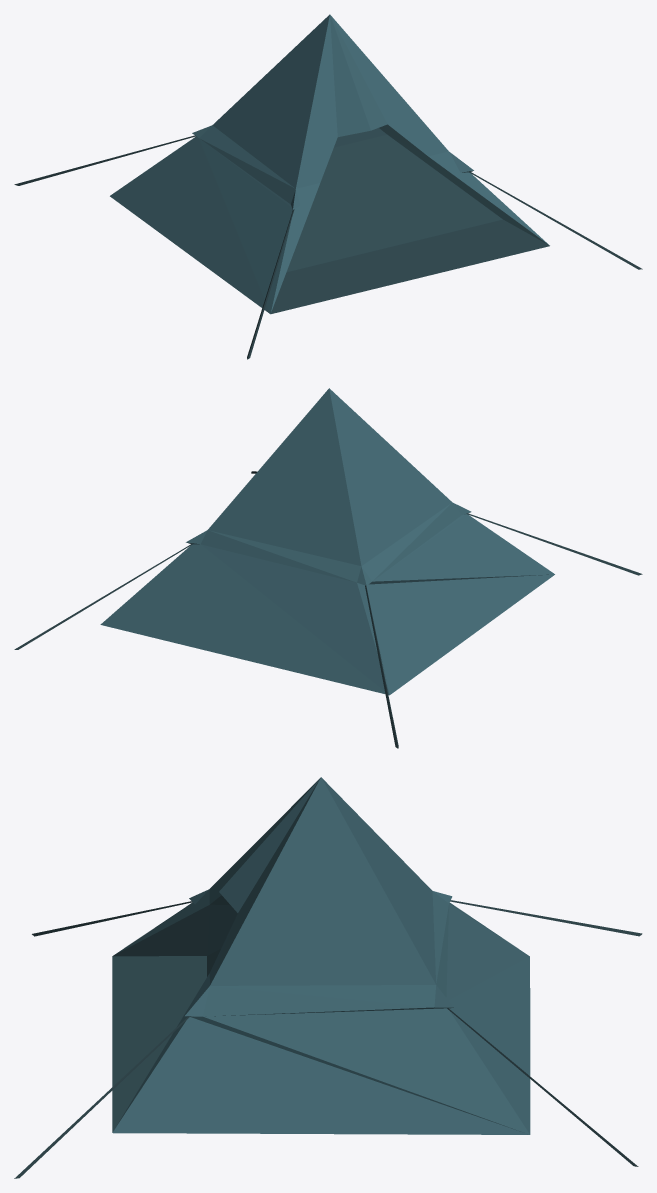
Rendered from SM_tent_3_AN.fbx.
3 renders of one model, top to bottom at view 1: azimuth 30°, elevation 25°; view 2: azimuth 150°, elevation 25°; view 3: azimuth 270°, elevation 25°, orthographic. The views are drawn at different scales.
Visible parts, largest first — view 1: SM_tent_3_AN; view 2: SM_tent_3_AN; view 3: SM_tent_3_AN.
Boxes of the visible parts, x1,y1,x2,y2 form: SM_tent_3_AN: (14, 14, 642, 359); SM_tent_3_AN: (14, 388, 642, 748); SM_tent_3_AN: (14, 777, 642, 1178).
Bounding box in the file's own units: 202 × 108 × 219.
